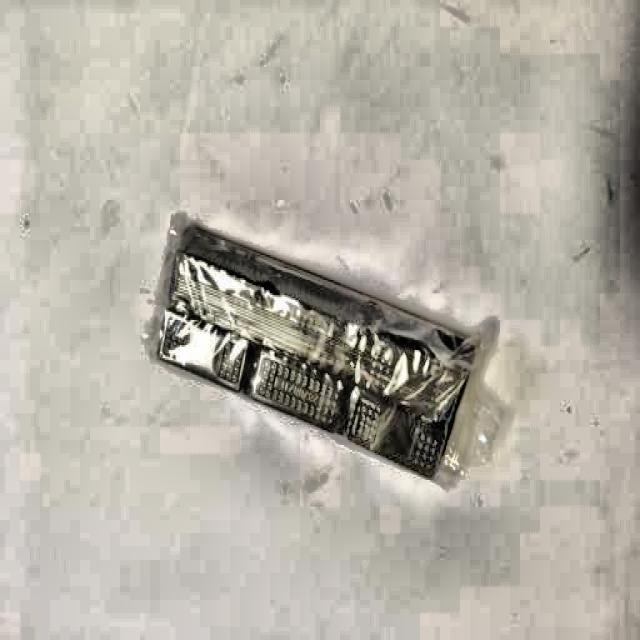plastic: (143, 205, 500, 496)
